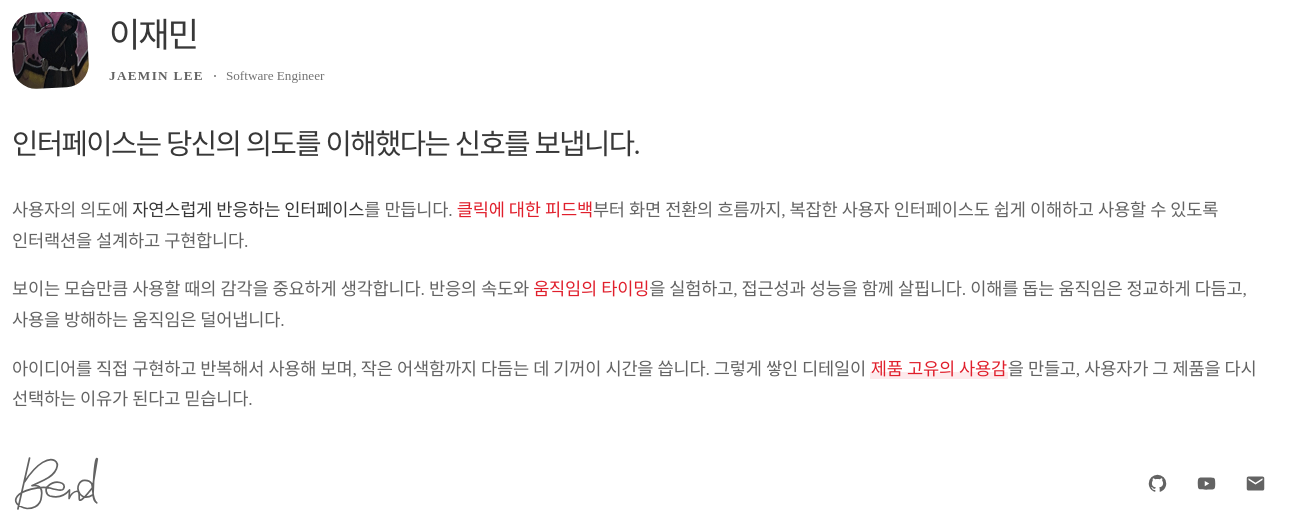
it: profile interactions › opens keyboard previews immediately and preserves Escape dismissal until reactivation
Focus the link named "GitHub 프로필": x=1157, y=483 top-left (1146, 473), bottom-right (1168, 494)
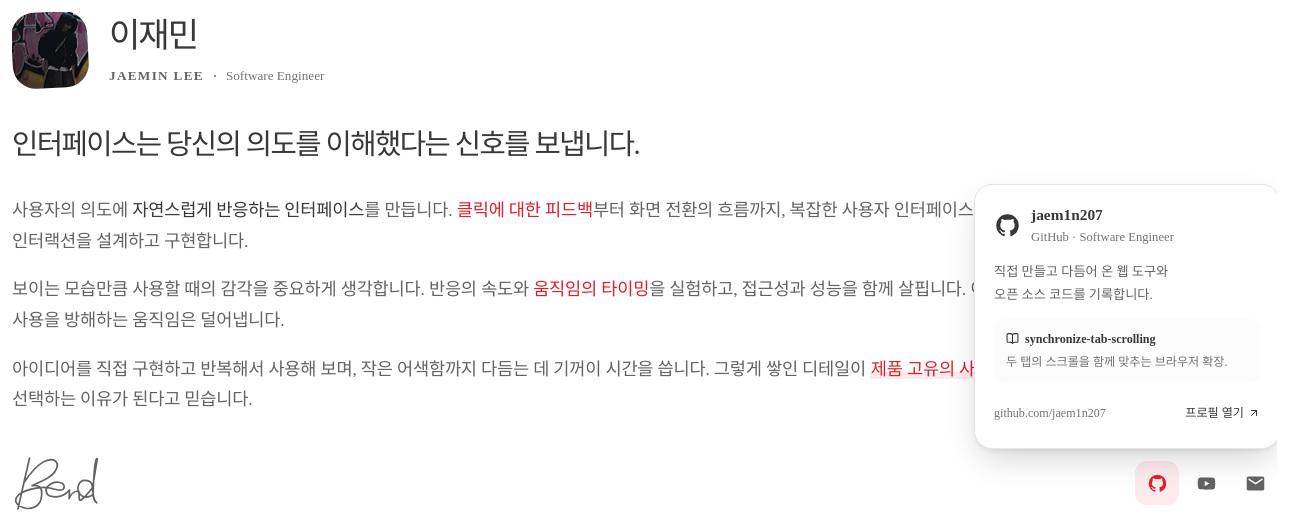
Result: the element named "GitHub 미리보기" is shown at top-left (974, 184), bottom-right (1280, 449)
Press Escape in the link named "GitHub 프로필", box top-left (1135, 461), bottom-right (1179, 505)
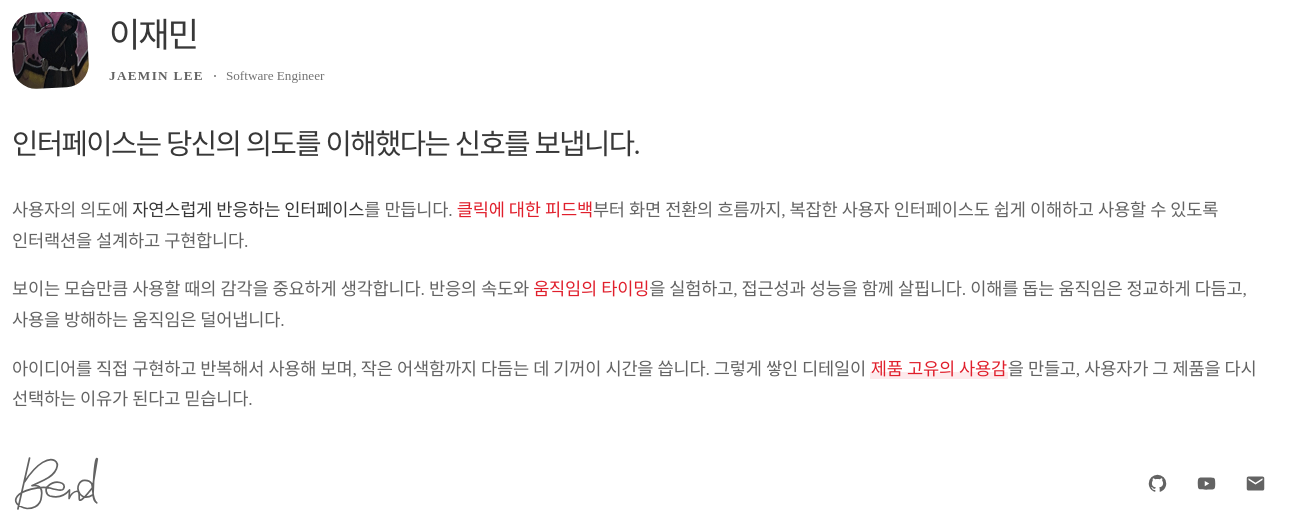
Focus the link named "YouTube 채널": x=1206, y=483 top-left (1196, 473), bottom-right (1216, 494)
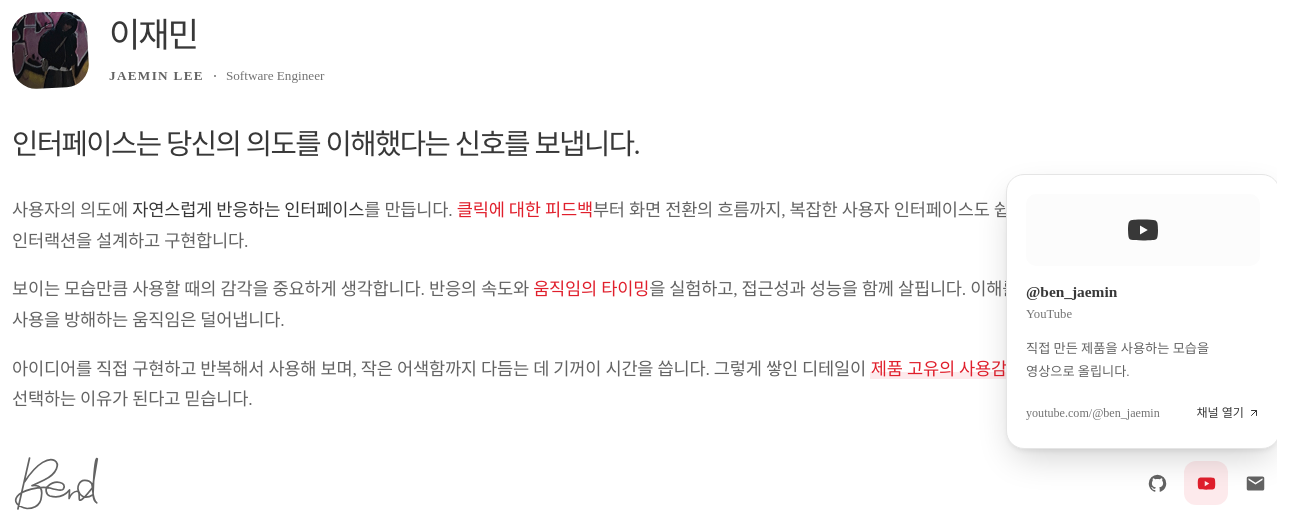
Result: the element named "YouTube 미리보기" is shown at top-left (1006, 174), bottom-right (1280, 449)
